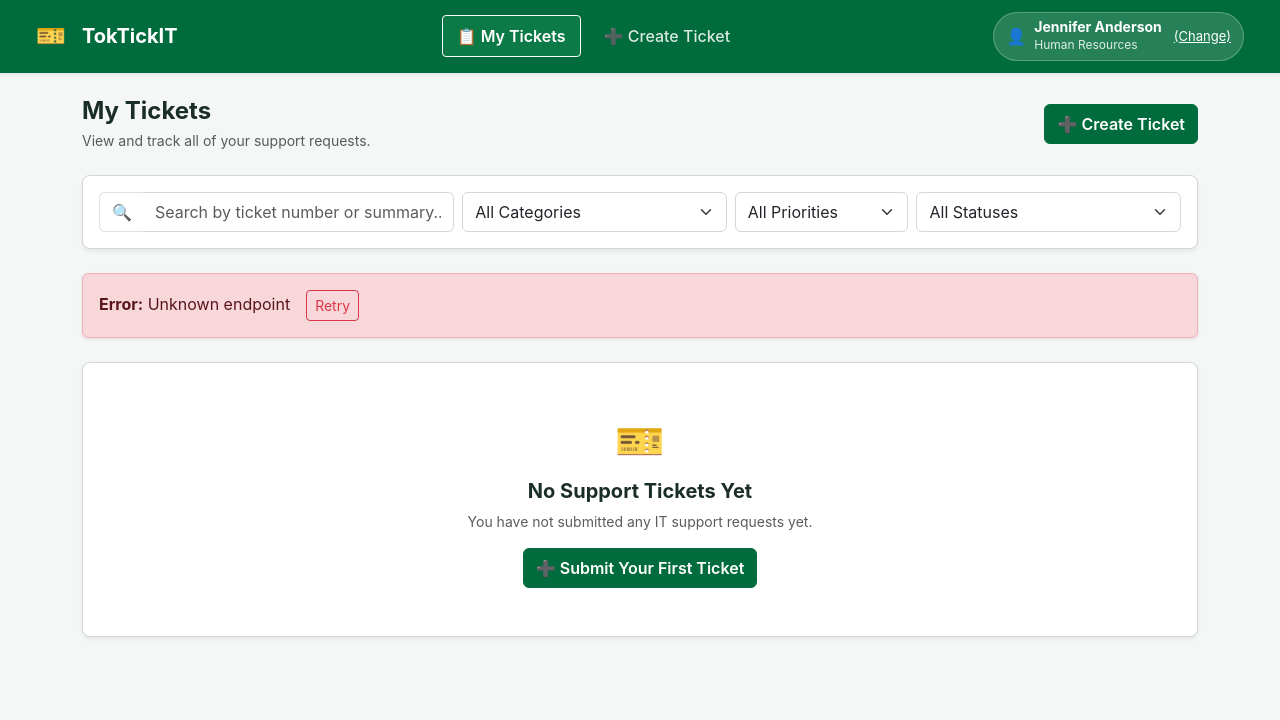
Test: Create Ticket Screen (Create Mode) › submits valid form, enters busy state, and displays official Ticket Number
Click the button with test id "nav-create-ticket".
click(667, 36)  # box [589,15,745,57]
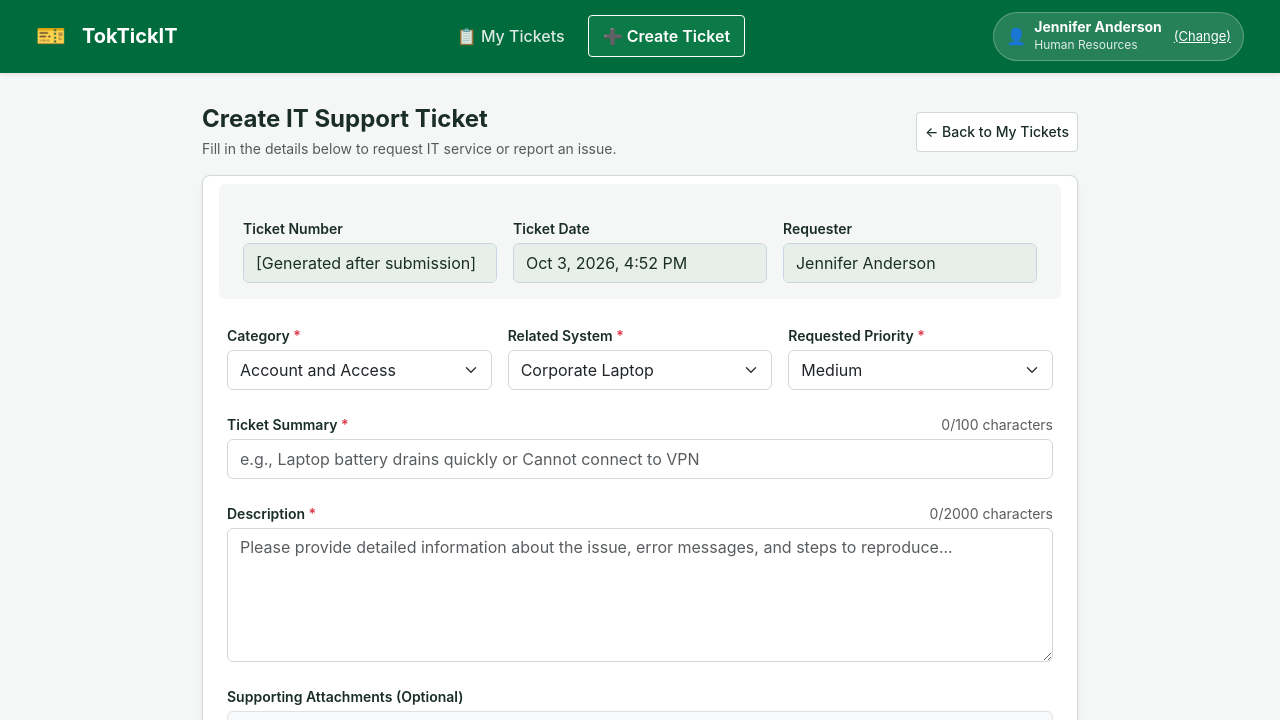
Type "Battery drains quickly" into the field with test id "ticket-summary-input".
click(640, 459); type("Battery drains quickly")  # box [227,439,1053,479]
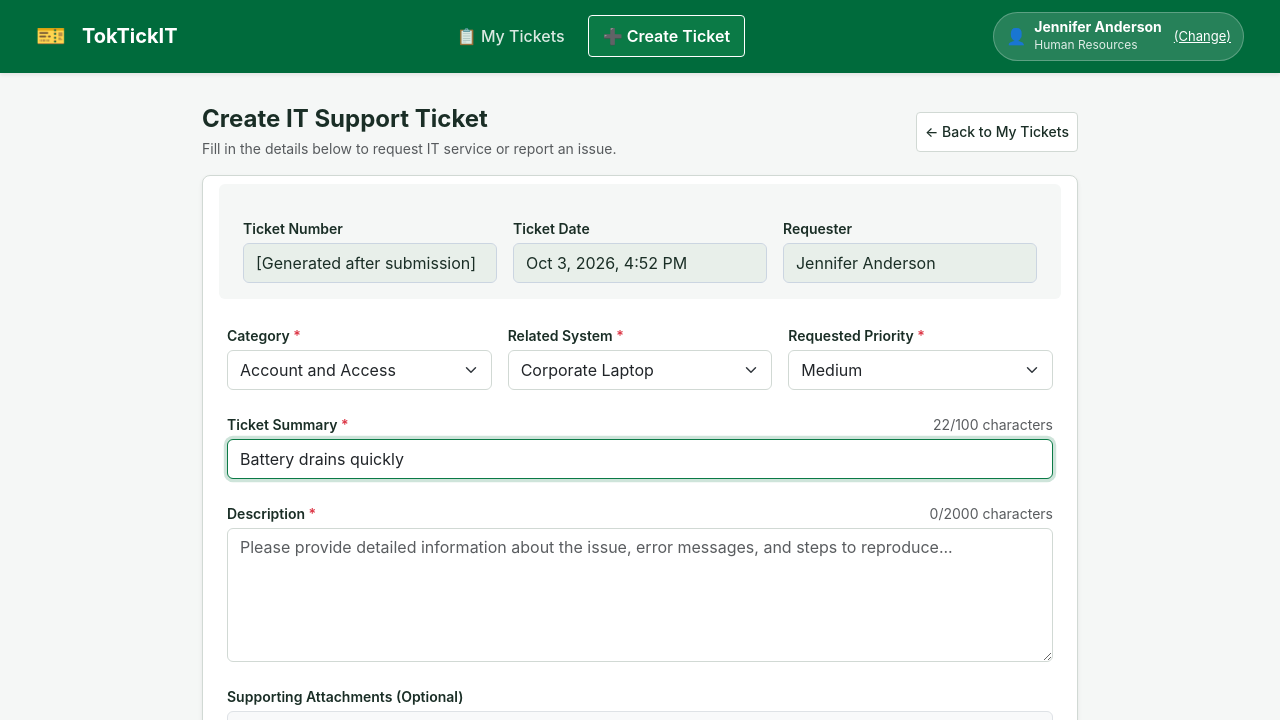
Type "Laptop battery drains in 30 minutes without heavy usage." into the text box with test id "ticket-description-input".
click(640, 595); type("Laptop battery drains in 30 minutes without heavy usage.")  # box [227,528,1053,662]
(page scrolled)
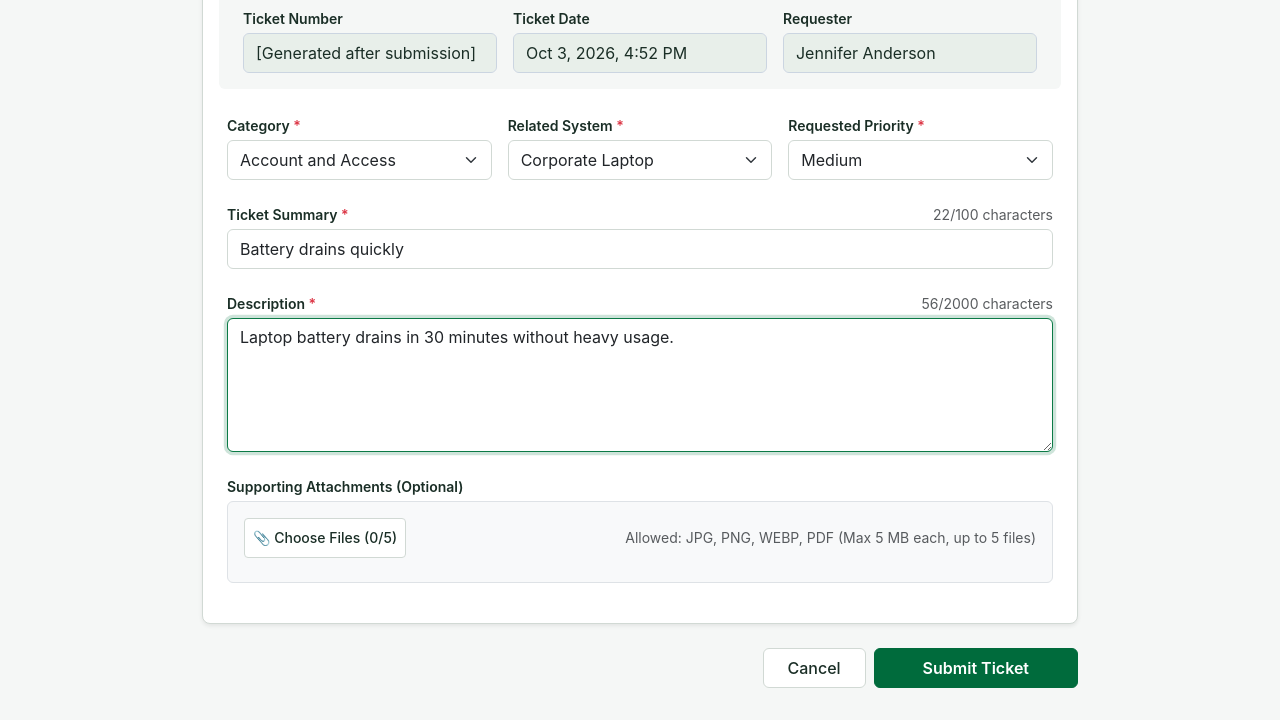
# Submit form
Click the button with test id "submit-ticket-btn".
click(976, 668)  # box [874,648,1078,688]
(page scrolled)
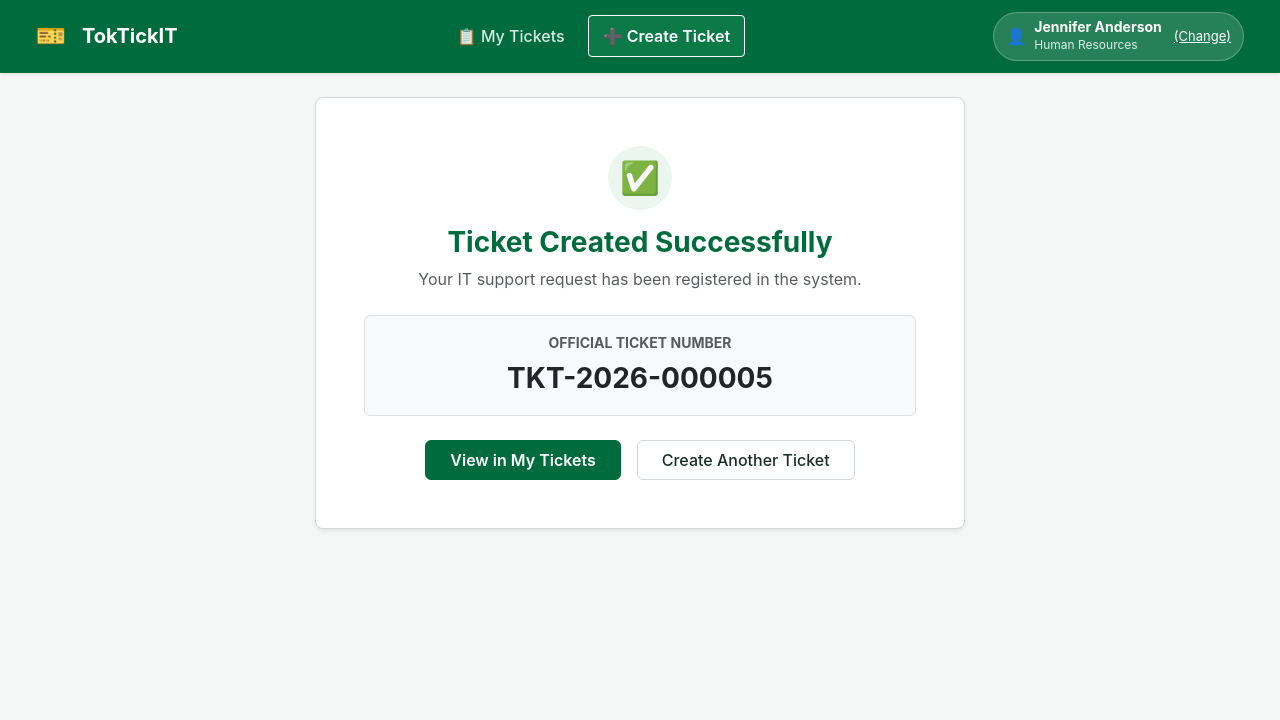
Result: the heading "Ticket Created Successfully" is shown at [447,225,833,259]
Result: the text with test id "generated-ticket-number" reads "TKT-2026-000005" at [507,361,773,395]
